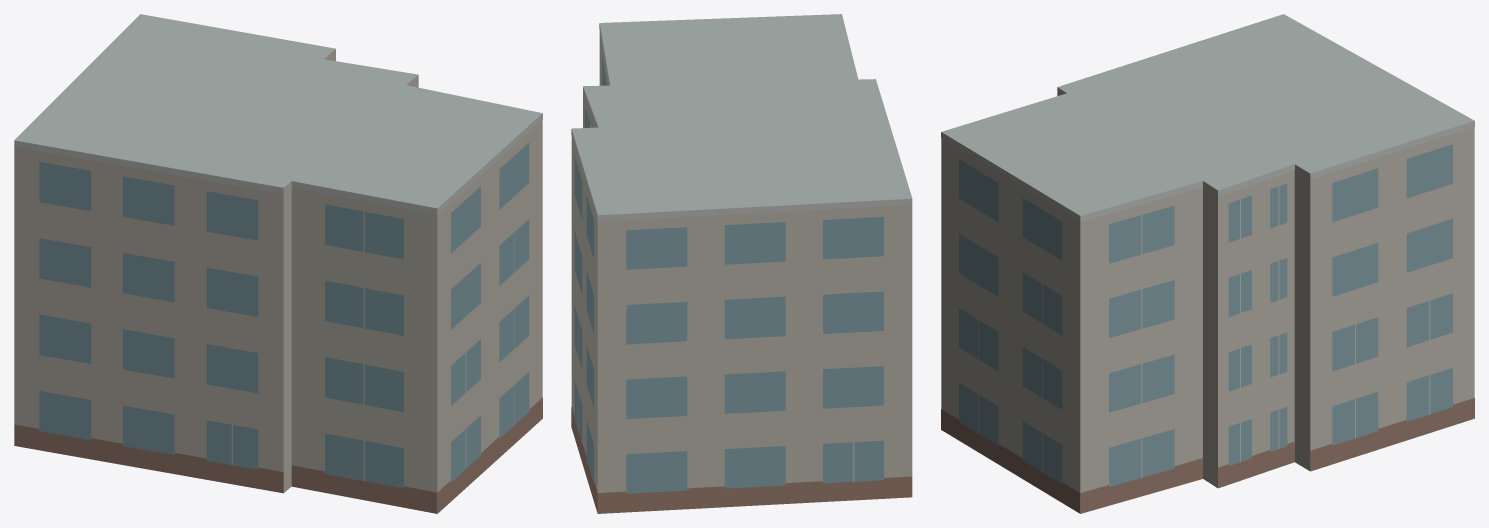
Rendered from survey-upis-32631145.glb.
3 views of the same model, side by side, from view 1: azimuth 30°, elevation 25°; view 2: azimuth 150°, elevation 25°; view 3: azimuth 270°, elevation 25° (orthographic). The views are drawn at different scales.
Parts seen in each view (by area): view 1: survey-upis-32631145.tmp; view 2: survey-upis-32631145.tmp; view 3: survey-upis-32631145.tmp.
Part boxes in pixels (<box>): survey-upis-32631145.tmp: <box>14,14,542,513</box>; survey-upis-32631145.tmp: <box>571,14,912,513</box>; survey-upis-32631145.tmp: <box>941,14,1474,513</box>.
Bounding box in the file's own units: 17.02 × 11.7 × 19.
